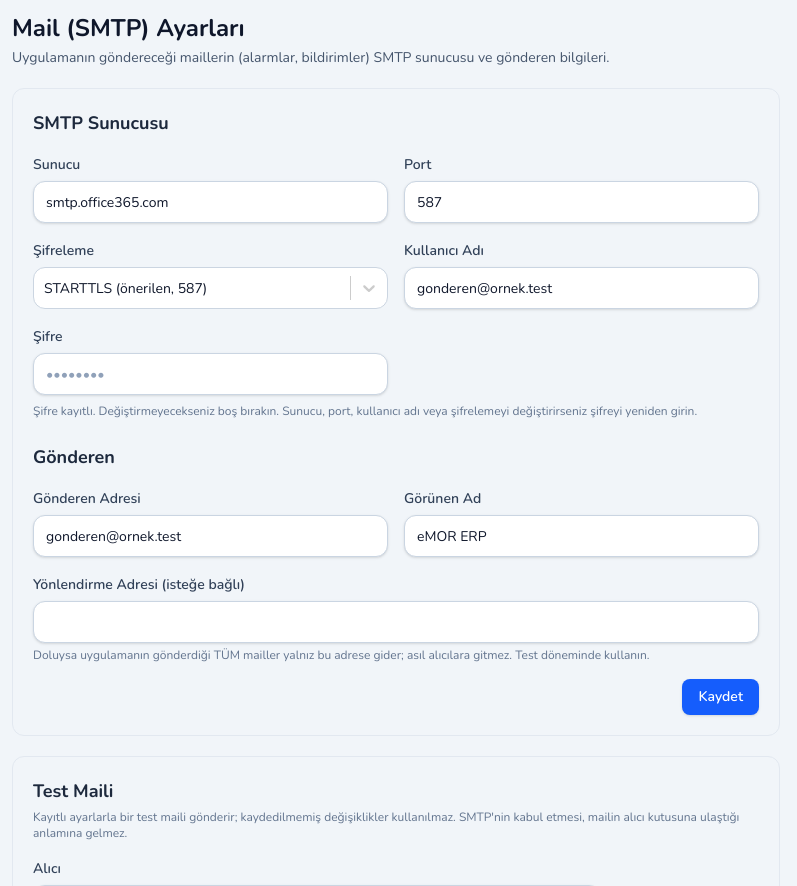
Test: MailAyarlariPage › sunucu adına şema yazılırsa istek atmadan hata gösterir
Type "smtp://x.test" into the field showing "smtp.office365.com" at (210, 202), box left=33, top=181, right=388, bottom=223
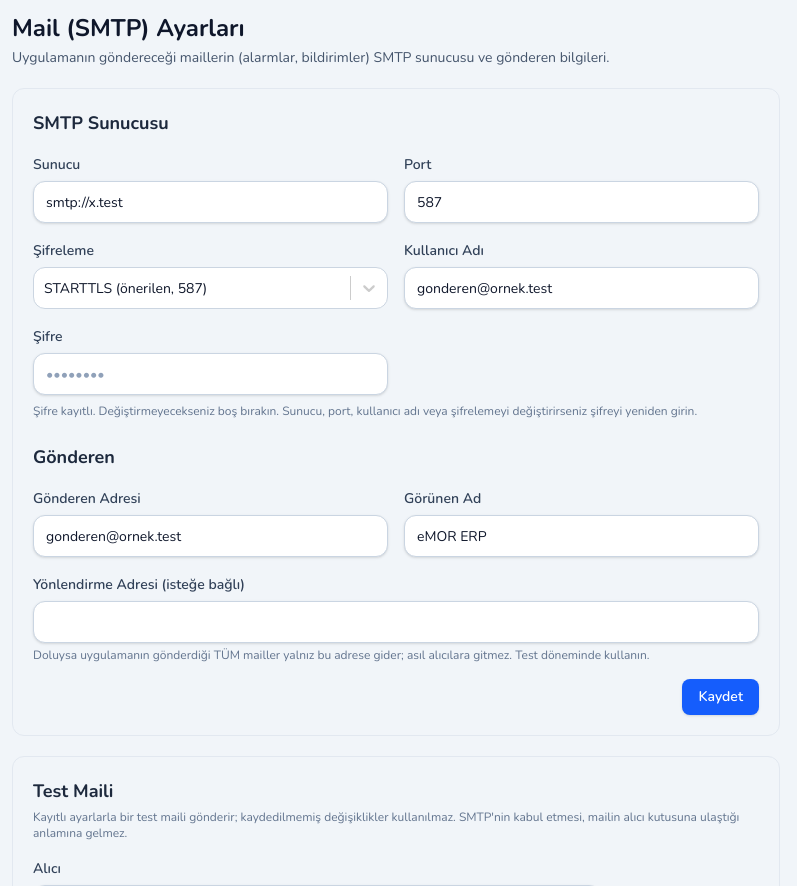
Click the button "Kaydet" at (721, 697), box left=682, top=679, right=759, bottom=715
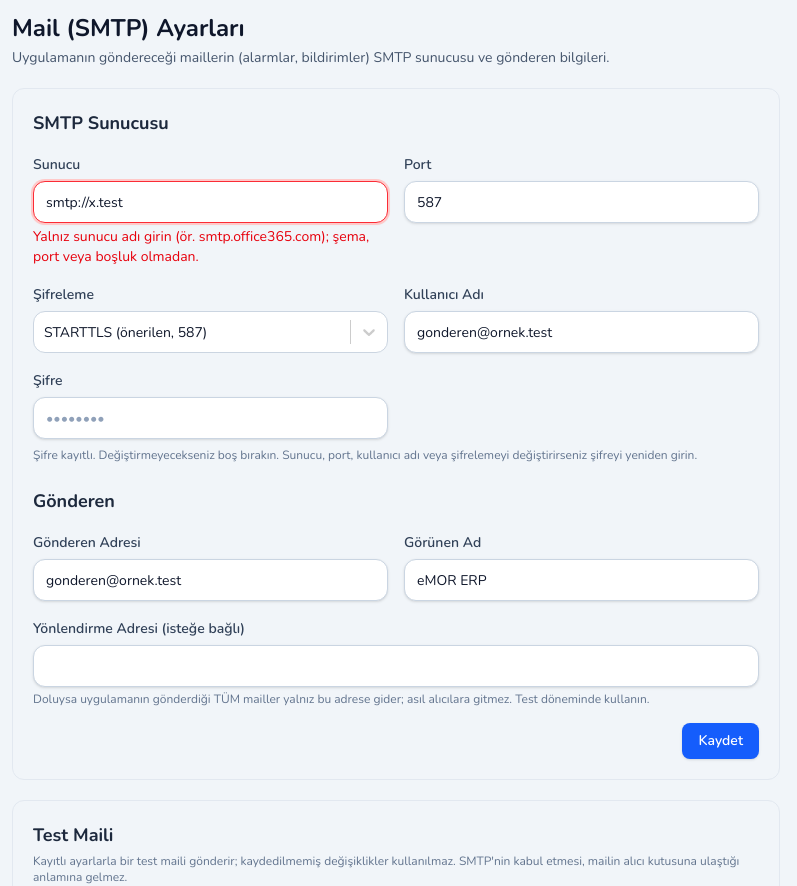
Result: the text "Yalnız sunucu adı girin" is shown at left=33, top=227, right=369, bottom=266
